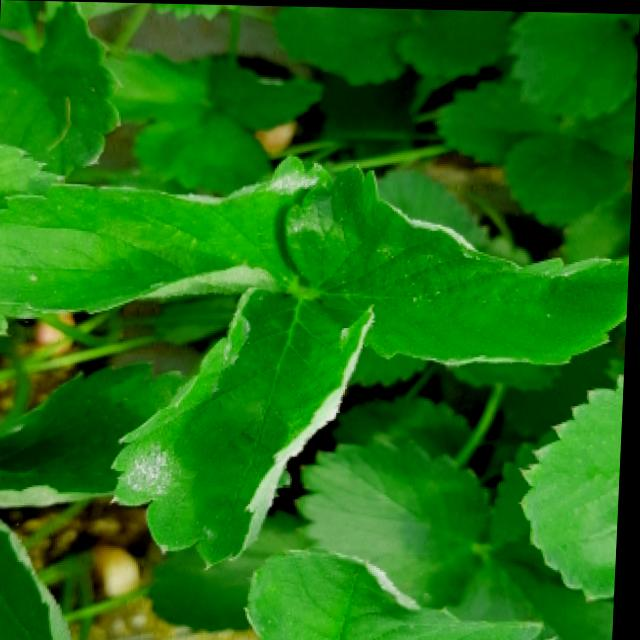Powdery Mildew Leaf: (111, 281, 378, 571), (283, 162, 631, 364), (0, 153, 335, 316), (247, 543, 566, 640), (0, 516, 76, 640)
